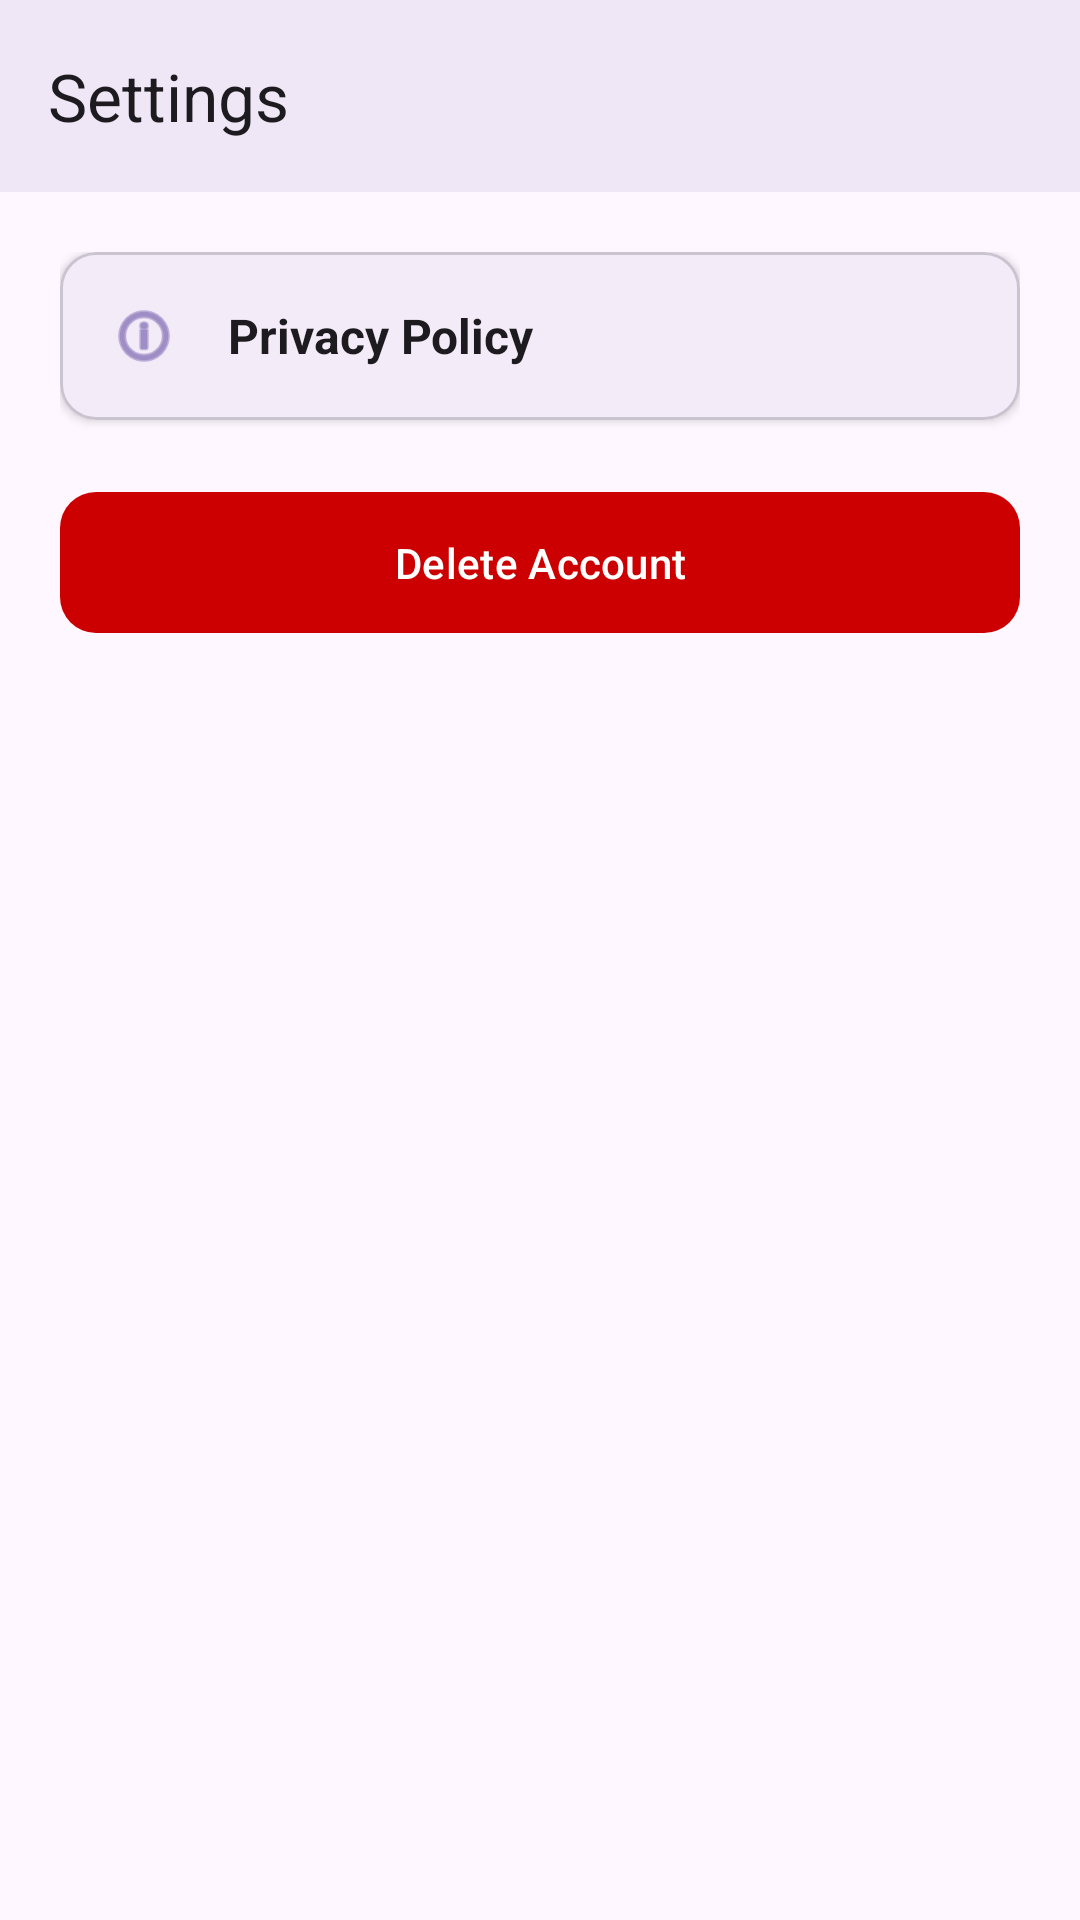

Icon bounding boxes for this 1080 × 1920 phone screenshot, format box(x1, y1, x2, y2):
info details: box(118, 310, 170, 362)
